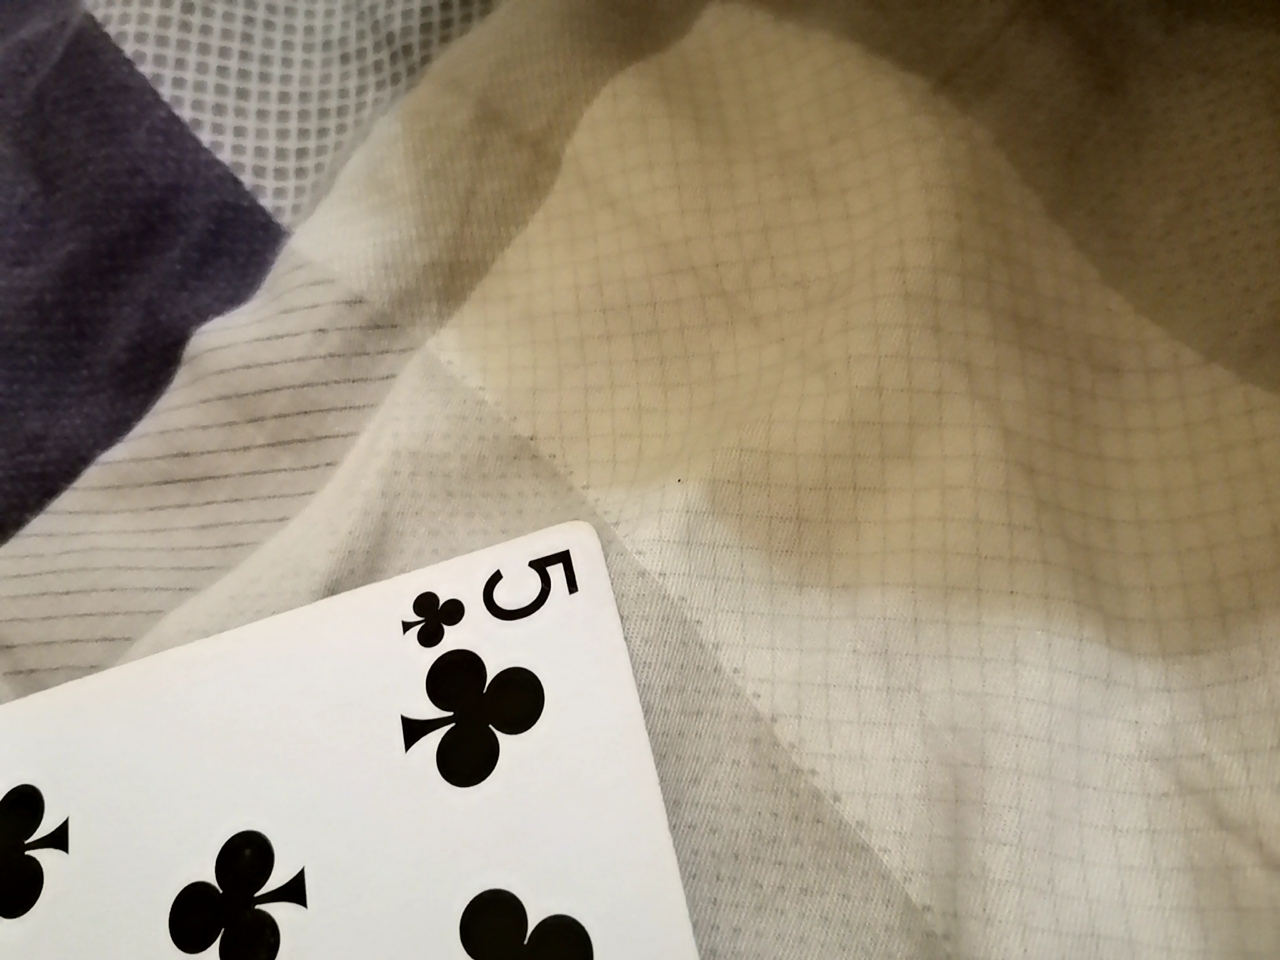mh 5: (2, 529, 740, 960)
